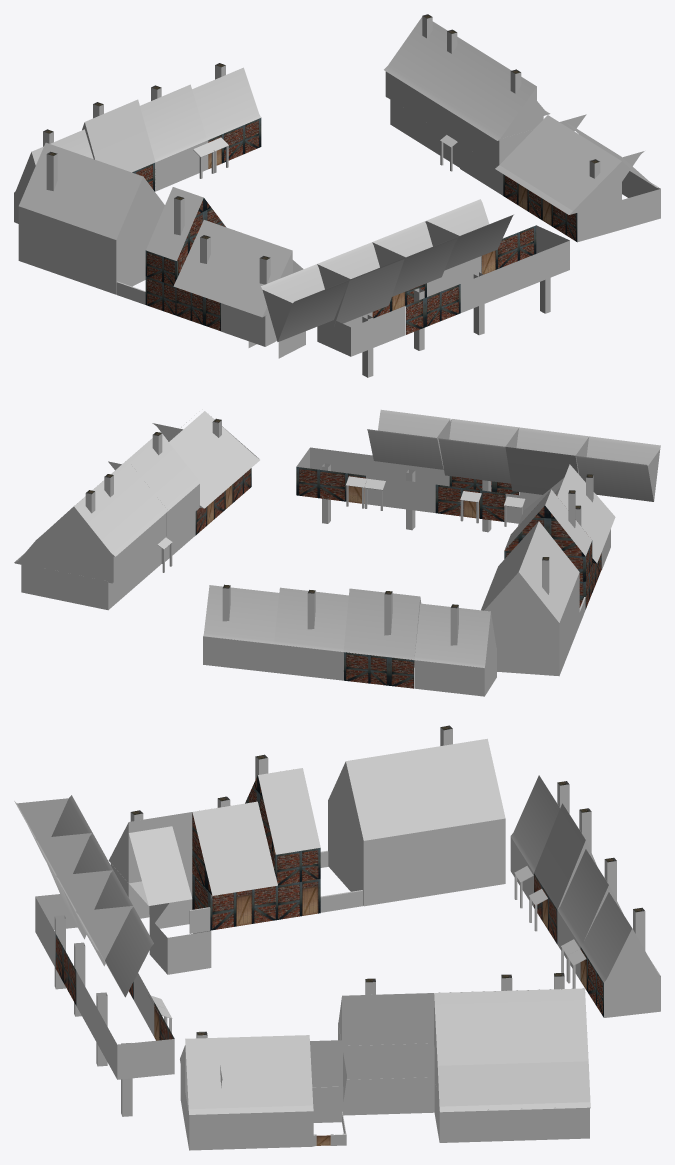
The model's file is environment_lilla_torget.FBX.
3 renders of one model, top to bottom at view 1: azimuth 30°, elevation 25°; view 2: azimuth 150°, elevation 25°; view 3: azimuth 270°, elevation 25°, orthographic. The views are drawn at different scales.
Parts seen in each view (by area): view 1: Box082, Box103, Mesh023, Mesh004, Roof, Box062, Box063, Mesh002, Mesh027, Box064, Mesh029, Box105 (+23 smaller); view 2: Box103, Box062, Box082, Roof, Box063, Mesh023, Mesh004, Box020, Box105, Box064, Box017, Box100 (+18 smaller); view 3: Box082, Mesh023, Roof, Mesh005, Group001, Mesh027, Box020, Box062, Box025, Box027, Mesh025, Box086 (+27 smaller).
Part boxes in pixels (box(x1,y1,x2,y2)): Box082: box(18, 177, 164, 294); Box103: box(261, 221, 457, 341); Mesh023: box(19, 142, 143, 239); Mesh004: box(495, 115, 621, 214); Roof: box(384, 17, 493, 113); Box062: box(31, 84, 207, 165); Box063: box(85, 99, 155, 172); Mesh002: box(454, 60, 536, 140); Mesh027: box(173, 220, 248, 301); Box064: box(192, 67, 260, 139); Mesh029: box(218, 235, 292, 317); Box105: box(426, 199, 513, 270); Box103: box(438, 419, 660, 501); Box062: box(274, 587, 490, 667); Box082: box(484, 572, 579, 676); Roof: box(74, 460, 168, 556); Box063: box(343, 588, 420, 660); Mesh023: box(481, 521, 579, 622); Mesh004: box(169, 411, 259, 508); Box020: box(21, 545, 161, 610); Box105: box(367, 409, 449, 469); Box064: box(203, 585, 279, 643); Box017: box(36, 513, 166, 582); Box100: box(366, 462, 449, 512); Box082: box(328, 761, 505, 906); Mesh023: box(346, 738, 505, 840); Roof: box(434, 988, 588, 1065); Mesh005: box(185, 1035, 313, 1114); Group001: box(437, 1061, 590, 1112); Mesh027: box(192, 801, 277, 895); Box020: box(434, 1079, 589, 1142); Box062: box(510, 775, 608, 945); Box025: box(338, 993, 433, 1045); Box027: box(185, 1093, 313, 1150); Mesh025: box(258, 768, 320, 854); Box086: box(245, 775, 320, 920).
Size of the model in its own units: 77.27 by 20.75 by 68.84.
